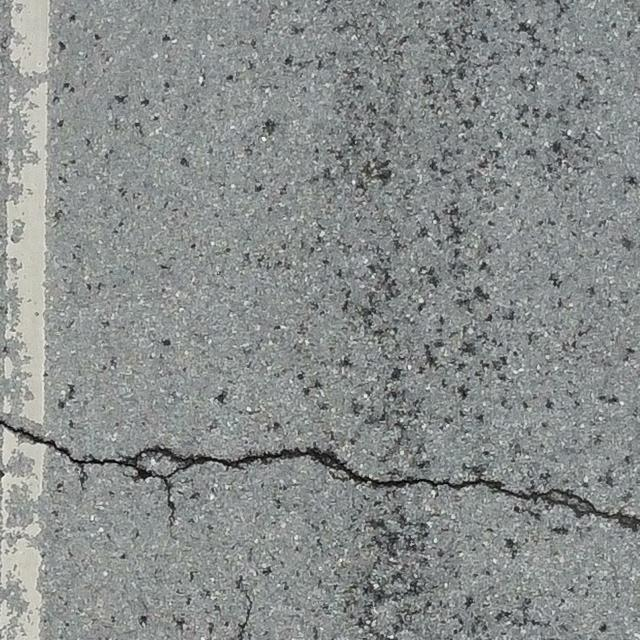TransverseCrack: (1, 419, 640, 531)
